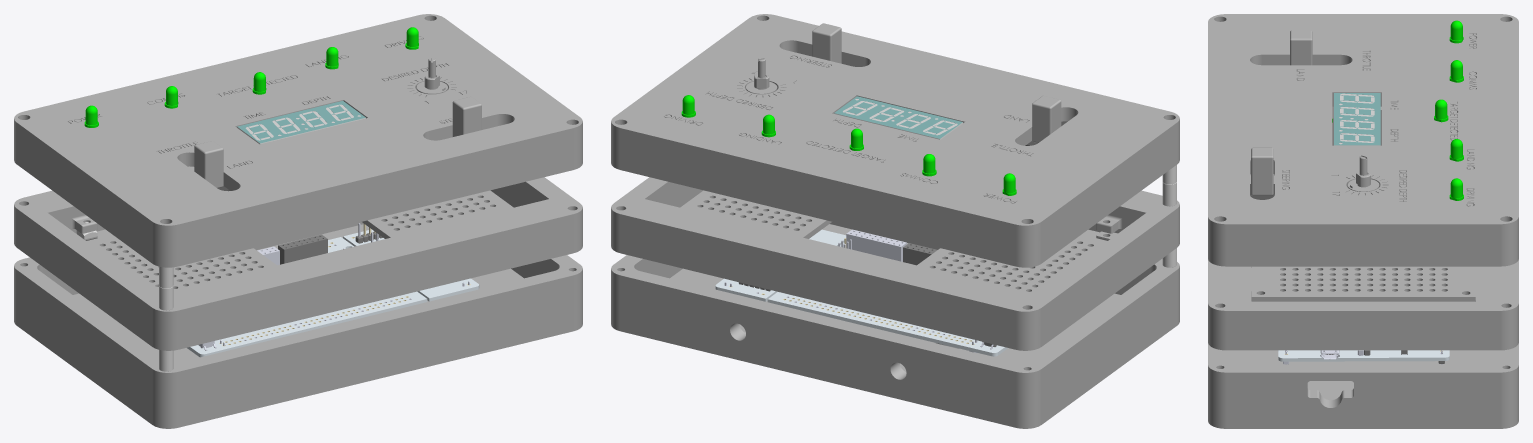
The model's file is hasselhoff_remote.glb.
3 views of the same model, side by side, from view 1: azimuth 30°, elevation 25°; view 2: azimuth 150°, elevation 25°; view 3: azimuth 270°, elevation 25° (orthographic).
Parts seen in each view (by area): view 1: Top Shell-1, Bottom Shell-1, Mid Layer-1, NUCLEO-F413ZH board.step-1, dummy PCB-1, dummy PCB-2, CA56-12-1, skinny joystick-1 (×2), cn8.step-1, 39xa-xrx-xxx-1; view 2: Top Shell-1, Bottom Shell-1, Mid Layer-1, dummy PCB-1, NUCLEO-F413ZH board.step-1, dummy PCB-2, CA56-12-1, skinny joystick-1 (×2), cn7.step-1, 39xa-xrx-xxx-1; view 3: Top Shell-1, Bottom Shell-1, Mid Layer-1, dummy PCB-2, CA56-12-1, skinny joystick-1 (×2), NUCLEO-F413ZH board.step-1, 39xa-xrx-xxx-1.
Boxes of the visible parts, x1,y1,x2,y2 form: Top Shell-1: (14, 14, 582, 267); Bottom Shell-1: (14, 222, 582, 428); Mid Layer-1: (14, 166, 582, 350); NUCLEO-F413ZH board.step-1: (187, 229, 479, 357); dummy PCB-1: (86, 229, 276, 293); dummy PCB-2: (362, 190, 513, 238); CA56-12-1: (237, 101, 365, 144); skinny joystick-1 (×2): (194, 96, 481, 188); cn8.step-1: (278, 234, 327, 264); 39xa-xrx-xxx-1: (416, 58, 447, 94); Top Shell-1: (611, 14, 1179, 267); Bottom Shell-1: (611, 222, 1179, 428); Mid Layer-1: (611, 177, 1179, 350); dummy PCB-1: (917, 229, 1107, 293); NUCLEO-F413ZH board.step-1: (715, 229, 1007, 356); dummy PCB-2: (680, 190, 831, 238); CA56-12-1: (834, 96, 962, 139); skinny joystick-1 (×2): (812, 23, 1061, 142); cn7.step-1: (846, 229, 906, 261); 39xa-xrx-xxx-1: (746, 57, 777, 94); Top Shell-1: (1208, 14, 1518, 266); Bottom Shell-1: (1208, 268, 1518, 428); Mid Layer-1: (1208, 106, 1518, 350); dummy PCB-2: (1251, 266, 1475, 301); CA56-12-1: (1334, 93, 1380, 145); skinny joystick-1 (×2): (1251, 30, 1312, 195); NUCLEO-F413ZH board.step-1: (1278, 350, 1449, 361); 39xa-xrx-xxx-1: (1347, 155, 1379, 191).
Bounding box in the file's own units: 0.2032 × 0.105 × 0.127.
